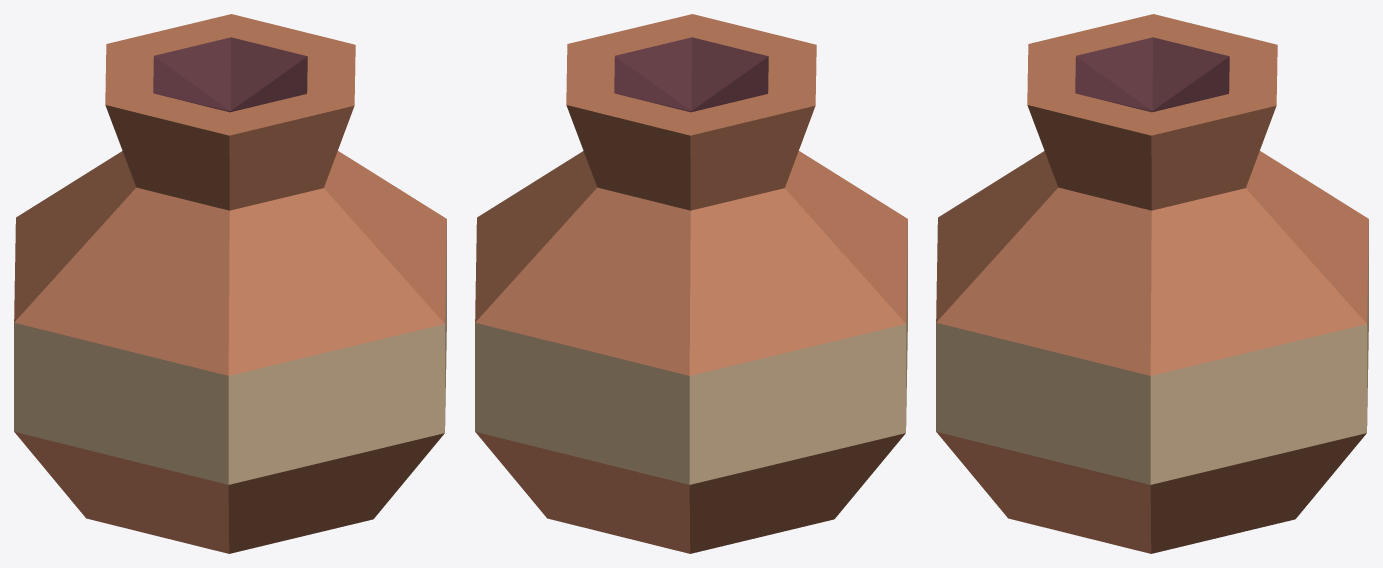
Rendered from tribal-vase-tribal-small.glb.
3 renders of one model, left to right at view 1: azimuth 30°, elevation 25°; view 2: azimuth 150°, elevation 25°; view 3: azimuth 270°, elevation 25°, orthographic.
Parts seen in each view (by area): view 1: SM_Vase_Tribal_Small; view 2: SM_Vase_Tribal_Small; view 3: SM_Vase_Tribal_Small.
Boxes of the visible parts, box(x1,y1,x2,y2) form: SM_Vase_Tribal_Small: box(14, 14, 446, 553); SM_Vase_Tribal_Small: box(475, 14, 907, 553); SM_Vase_Tribal_Small: box(936, 14, 1368, 553).
Bounding box in the file's own units: 0.5058 × 0.4588 × 0.44.
